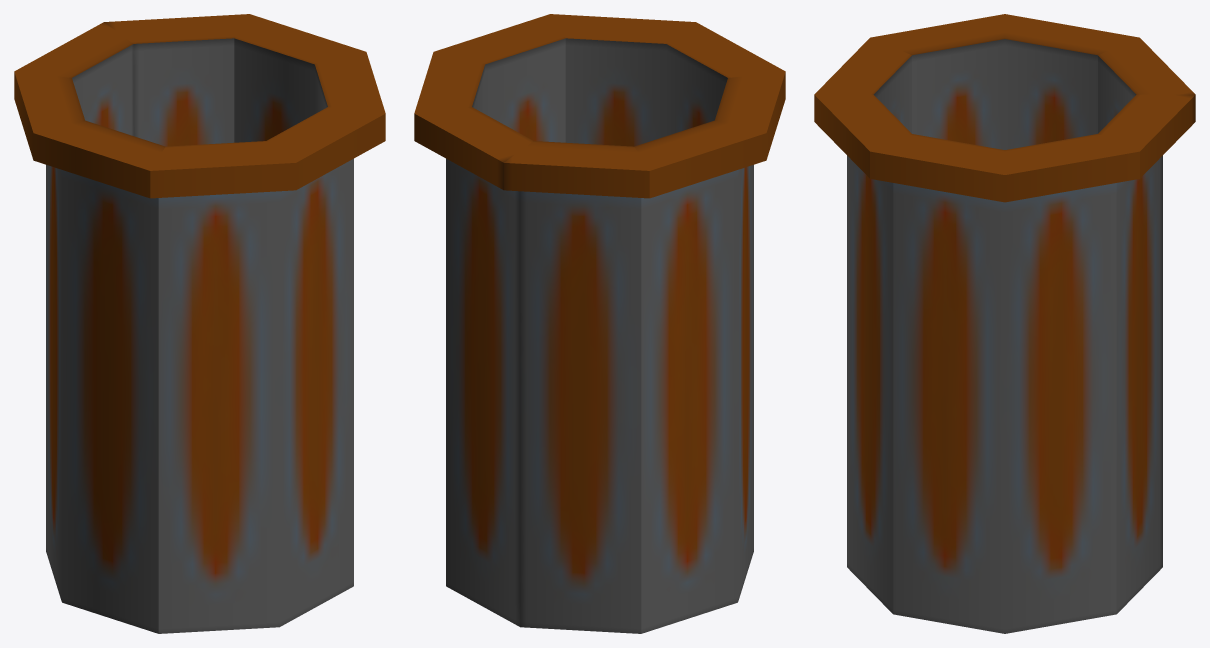
Rendered from Trash_can_small.FBX.
3 renders of one model, left to right at view 1: azimuth 30°, elevation 25°; view 2: azimuth 150°, elevation 25°; view 3: azimuth 270°, elevation 25°, orthographic.
Parts seen in each view (by area): view 1: Trash_can_small; view 2: Trash_can_small; view 3: Trash_can_small.
Part boxes in pixels (x1,y1,x2,y2): Trash_can_small: (14,14,385,633); Trash_can_small: (414,14,785,633); Trash_can_small: (814,14,1195,633).
Size of the model in its own units: 2.54 by 3.47 by 2.54.
